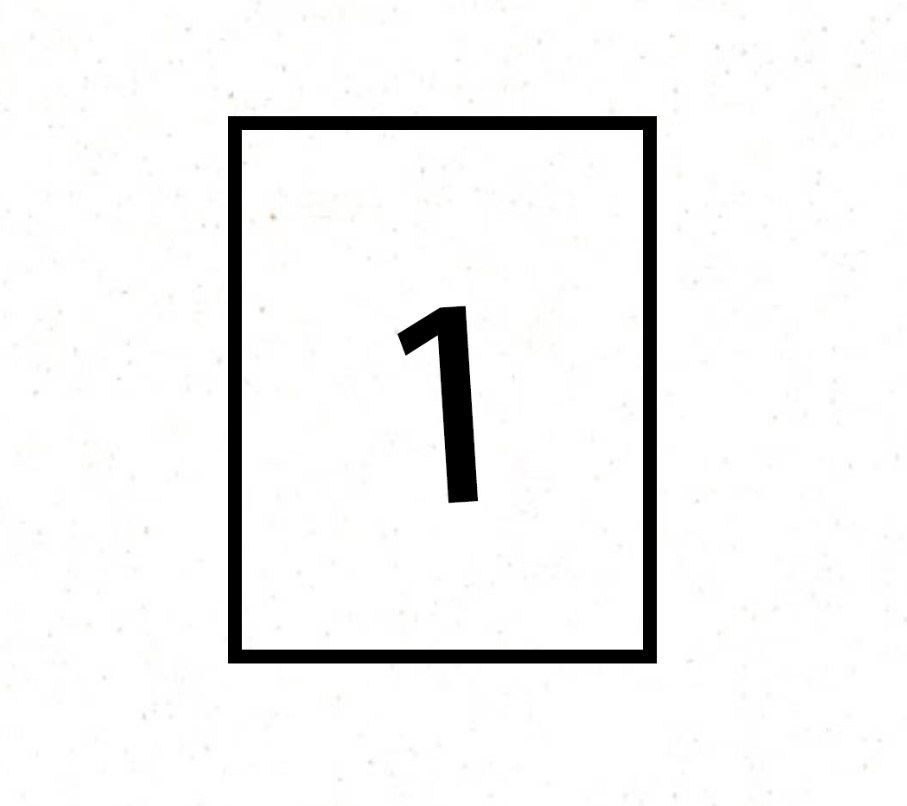one: (289, 194, 620, 608)
